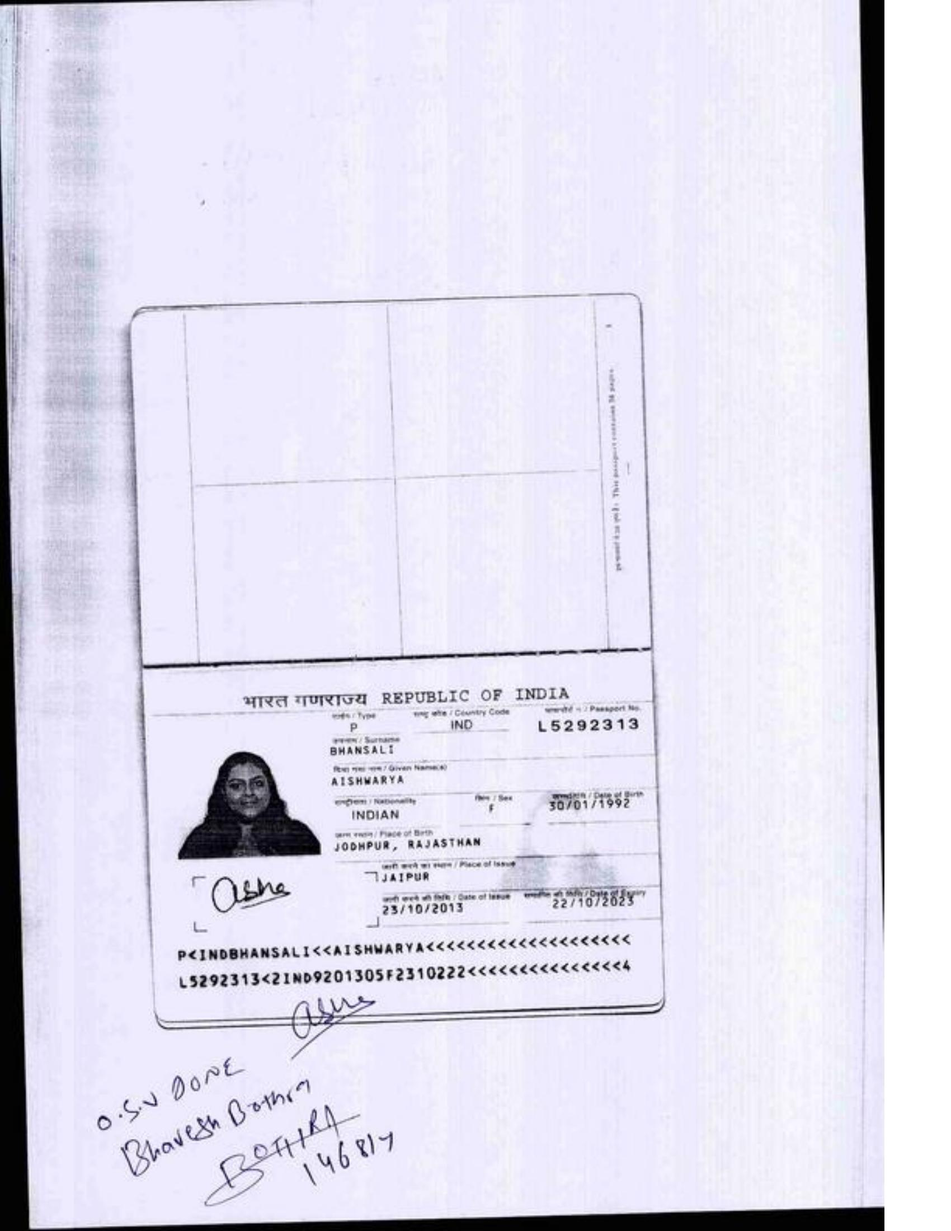DOB: (538, 792, 644, 818)
Surname: (322, 740, 407, 760)
country_code: (443, 714, 477, 737)
date_of_expiry: (538, 889, 648, 914)
date_of_issue: (375, 895, 475, 925)
details: (172, 936, 637, 987)
name: (322, 770, 460, 796)
nationality: (336, 802, 411, 827)
passport_no: (532, 713, 647, 740)
photo: (188, 737, 313, 850)
place_of_birth: (331, 838, 496, 857)
place_of_issue: (374, 862, 439, 888)
sex: (472, 799, 509, 824)
sign: (208, 868, 304, 918)
type: (337, 720, 371, 740)
